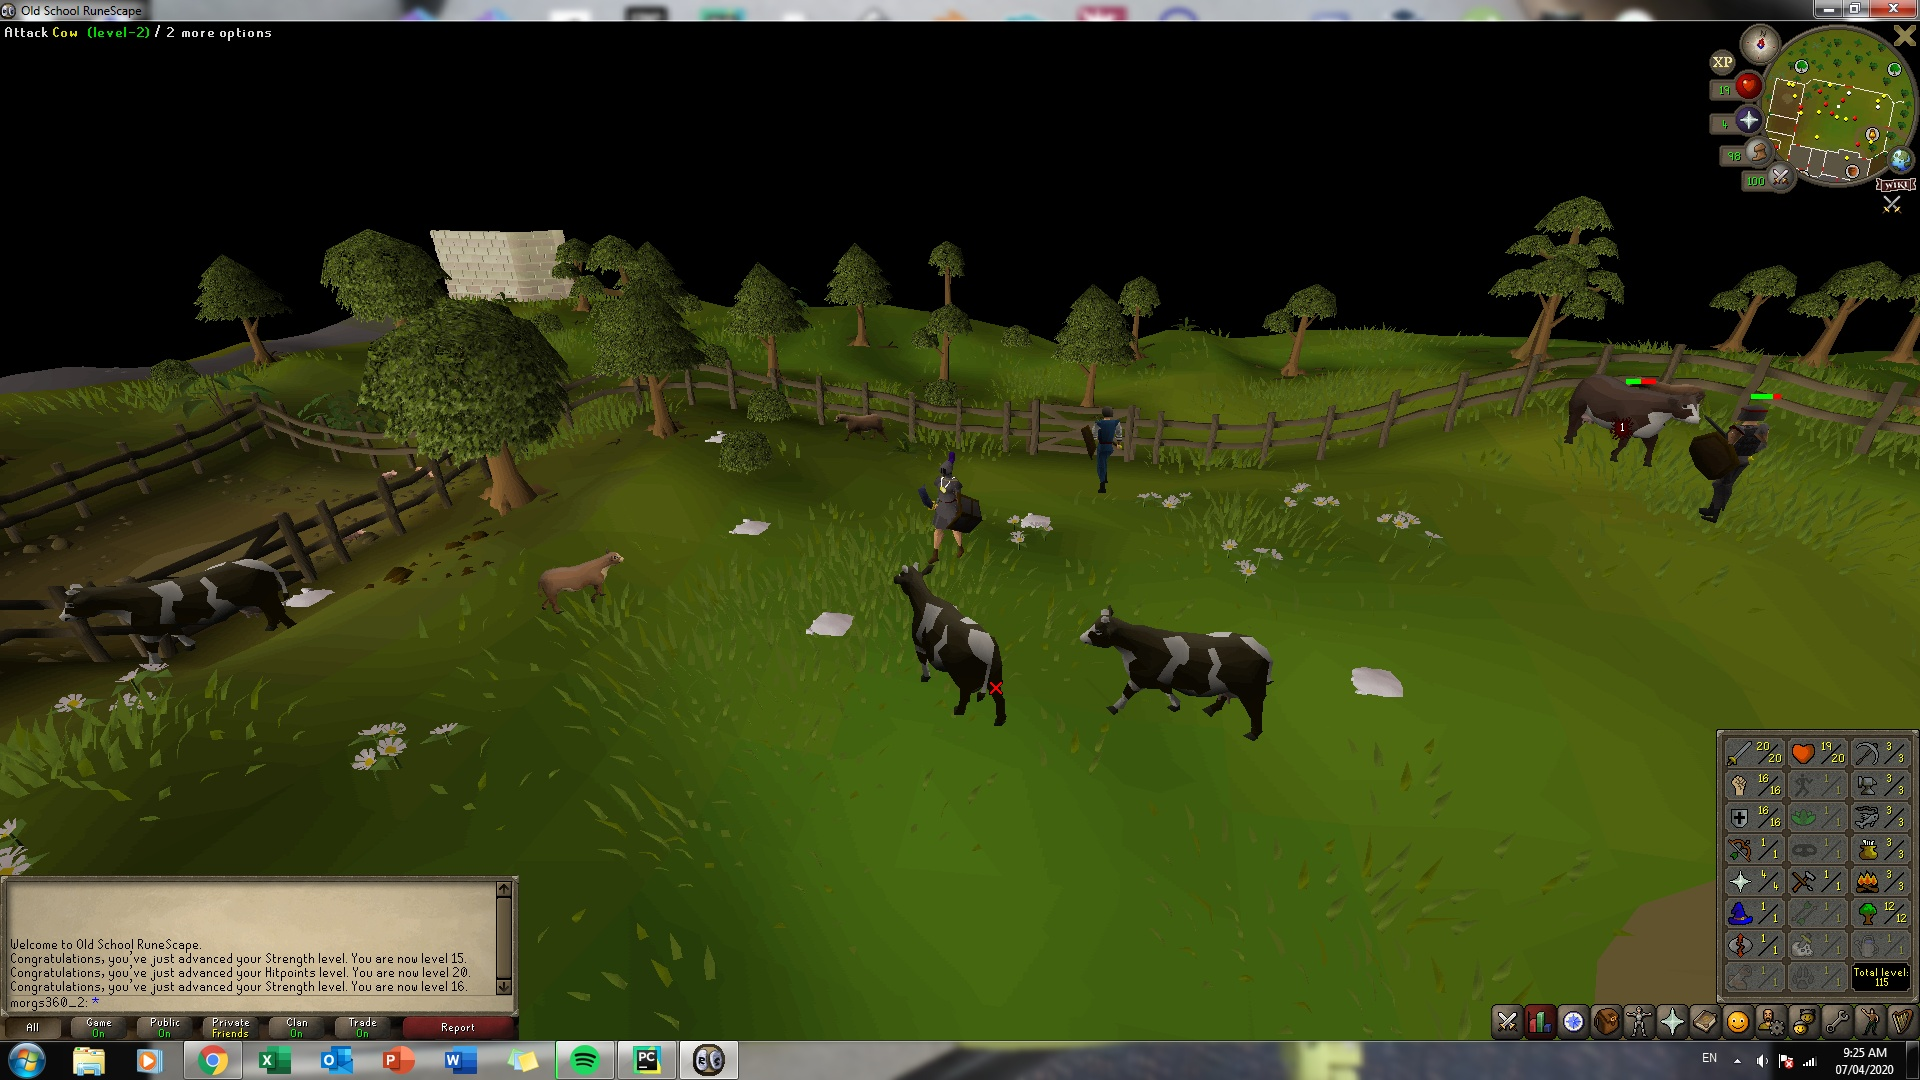cow: (1071, 609, 1275, 749), (47, 553, 295, 661), (884, 562, 1015, 727), (1553, 364, 1702, 468)
